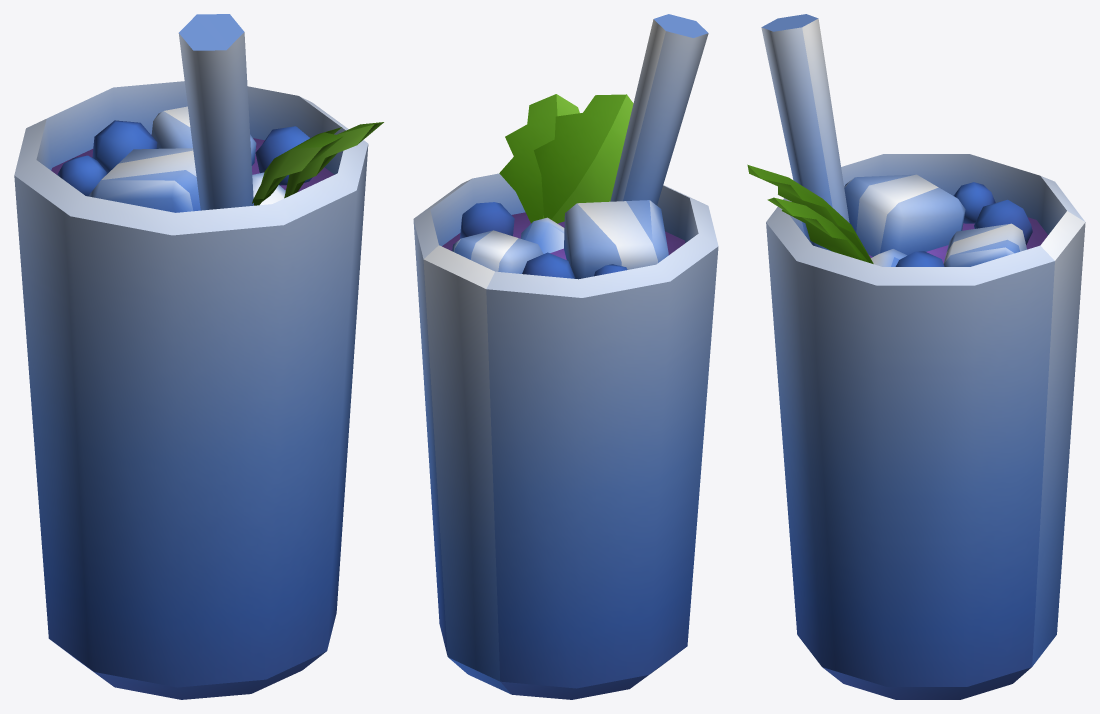
Rendered from m_BlueberryCocktail01.fbx.
The picture shows the model from 3 angles, left to right: view 1: azimuth 30°, elevation 25°; view 2: azimuth 150°, elevation 25°; view 3: azimuth 270°, elevation 25°; orthographic projection. The views are drawn at different scales.
Visible parts, largest first — view 1: m_BlueberryCocktail01; view 2: m_BlueberryCocktail01; view 3: m_BlueberryCocktail01.
Part boxes in pixels (x1,y1,x2,y2): m_BlueberryCocktail01: (14,14,383,699); m_BlueberryCocktail01: (413,14,718,699); m_BlueberryCocktail01: (747,14,1085,699).
Bounding box in the file's own units: 12.35 × 27.58 × 13.74.
